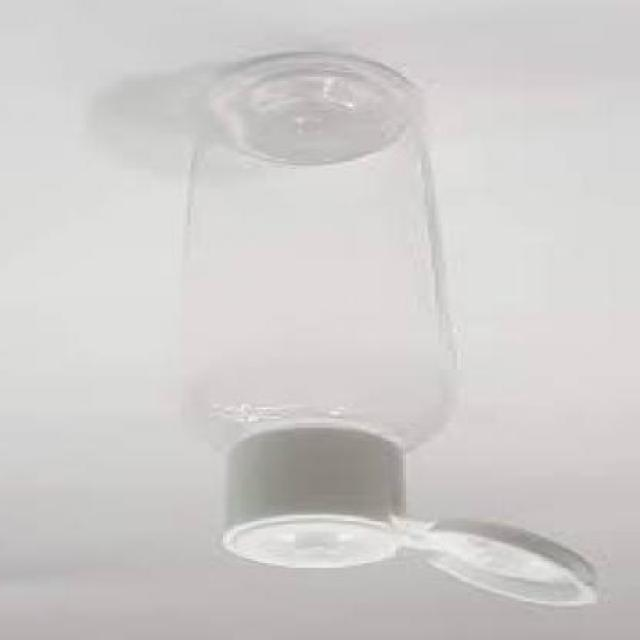PLASTIC: (186, 54, 608, 608), (219, 427, 604, 608)
